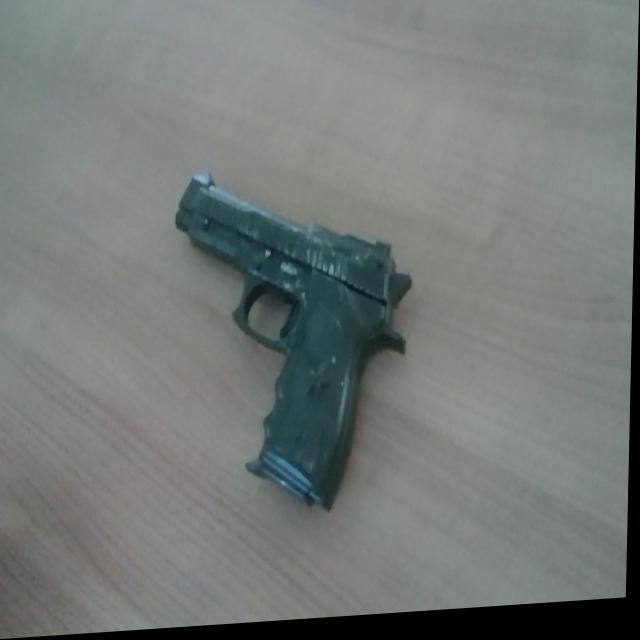handgun: (121, 139, 433, 575)
